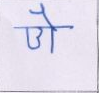au_matra: (37, 5, 59, 53)
